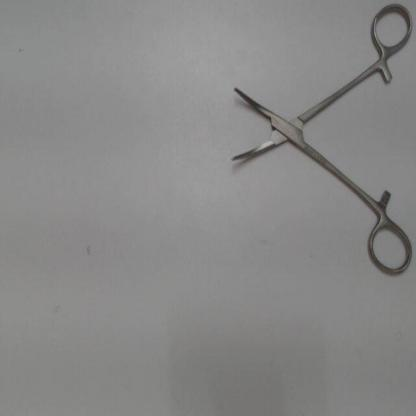Crile Artery Forceps: (224, 0, 414, 283)
